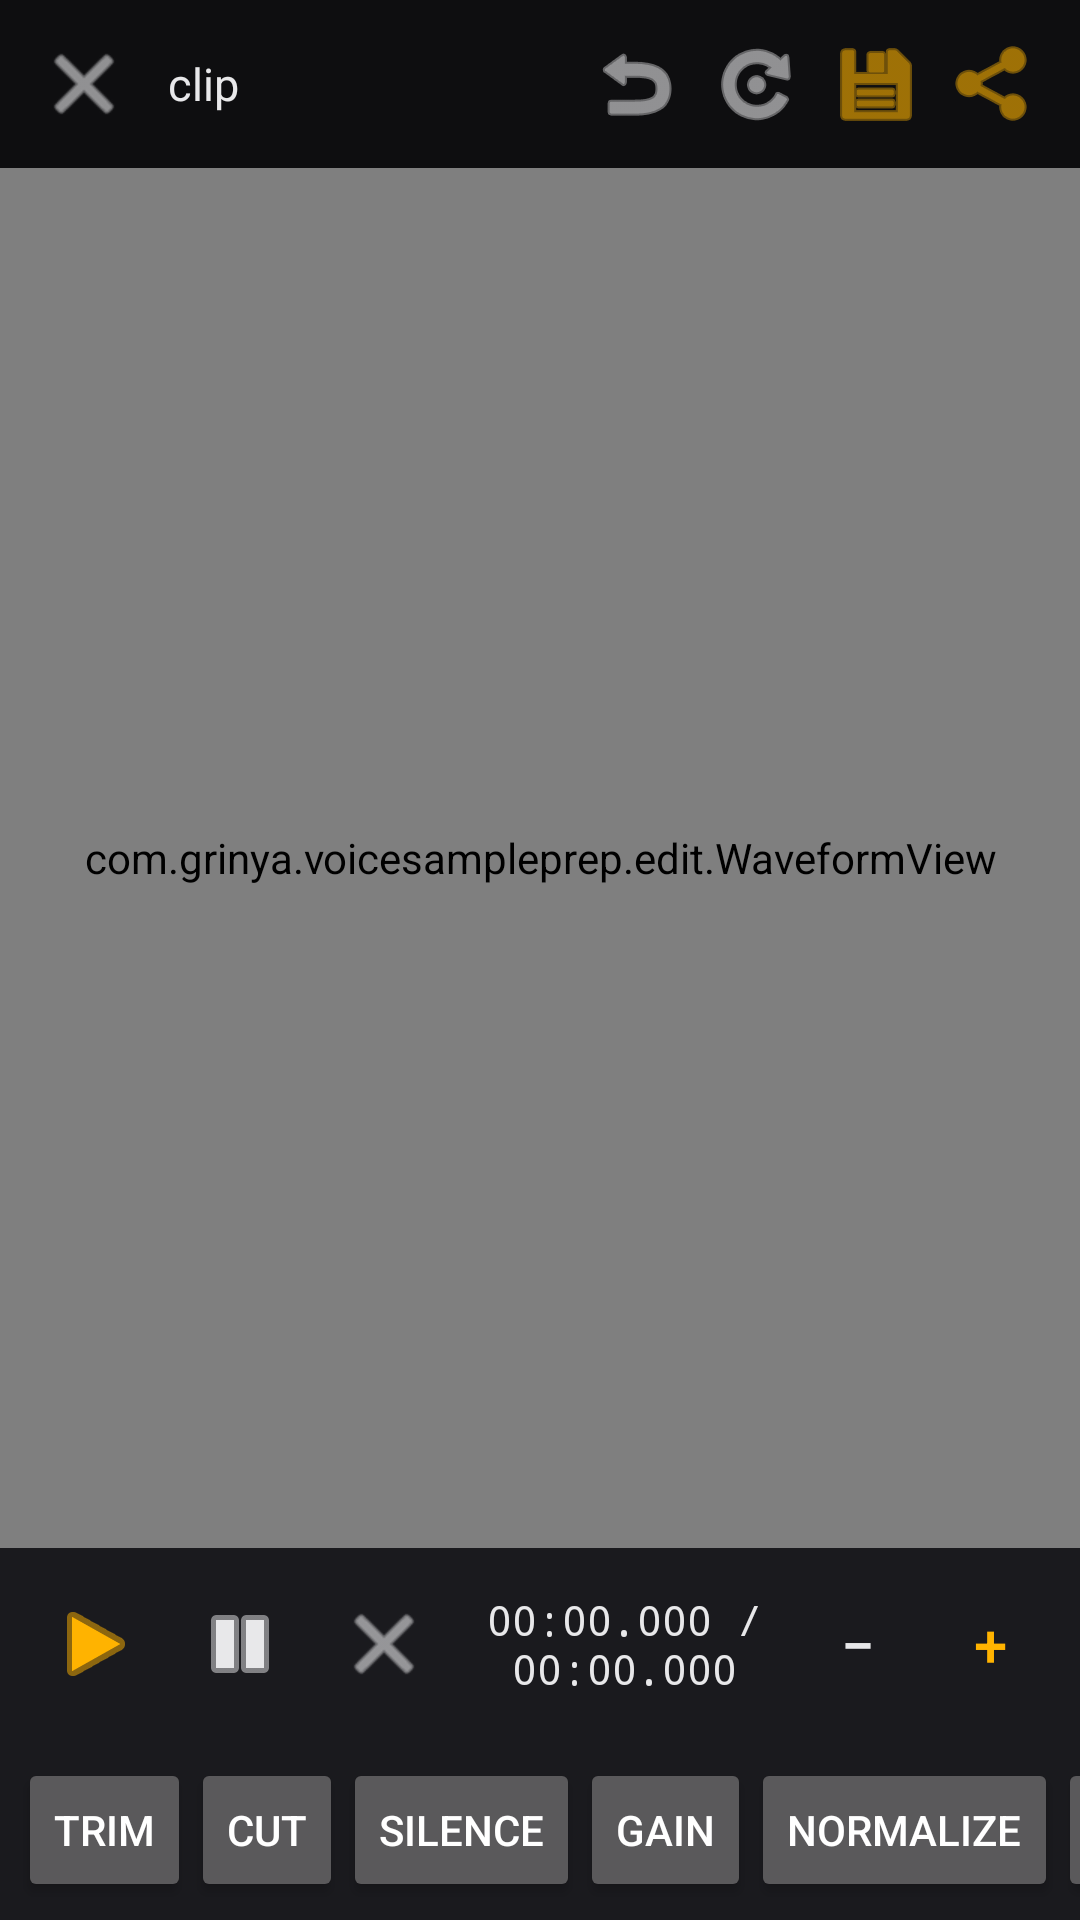

Locate icon controls on the screen. Image size 1080x1920, boxes as (x1, y1, x2, y2).
Cancel: (54, 54, 114, 114)
Export: (955, 46, 1027, 121)
Pause: (211, 1615, 269, 1673)
Play: (67, 1612, 125, 1676)
Redo: (721, 49, 791, 120)
Save: (840, 48, 912, 121)
Undo: (603, 53, 672, 116)
